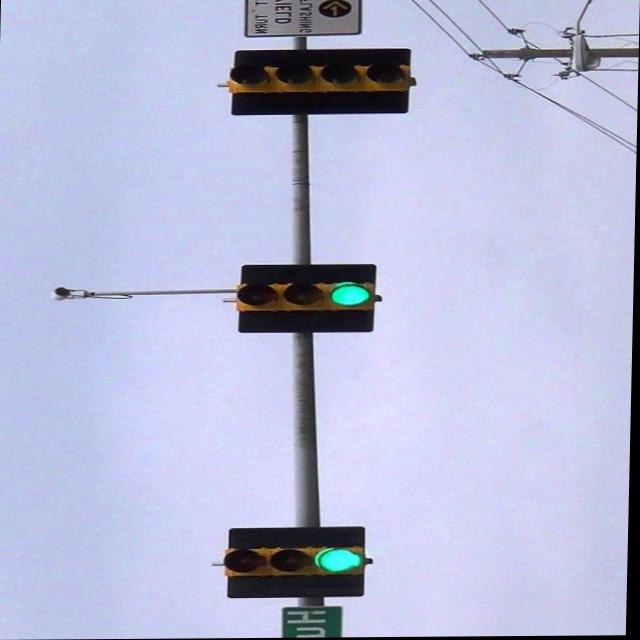green light: (233, 278, 379, 314), (224, 548, 362, 577)
